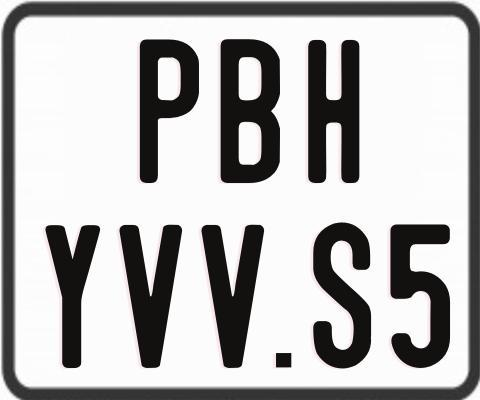5: (388, 224, 454, 367)
B: (219, 39, 278, 188)
H: (307, 38, 362, 187)
P: (138, 40, 203, 183)
S: (310, 223, 373, 371)
V: (117, 222, 181, 369), (199, 225, 261, 372)
Y: (44, 224, 102, 369)
